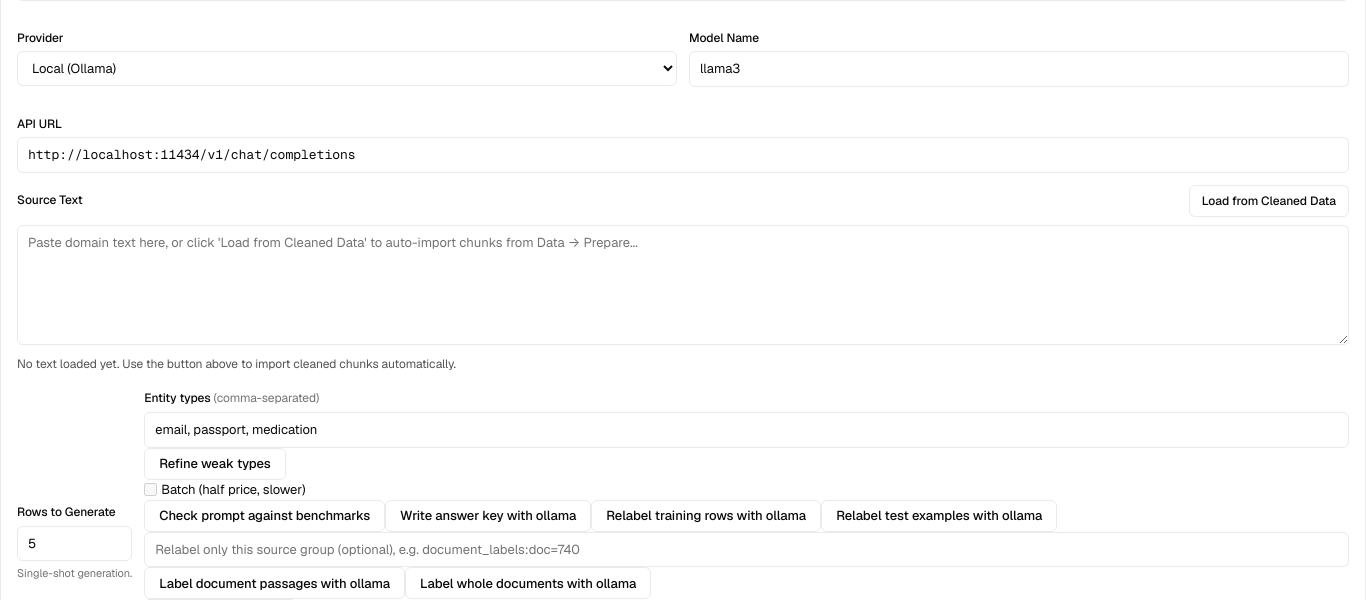
Scenario: SyntheticPanel — QA + Conversation parity (USER-SUCCESS Epic 2c) › "Refine weak types" reads the last span evaluation and generates rows for the weak types from all passages
This screenshot has width=1366, height=600.
Click the button with test id "synthetic-refine-weak-types": [215, 464] box [144,448,286,480]
(page scrolled)
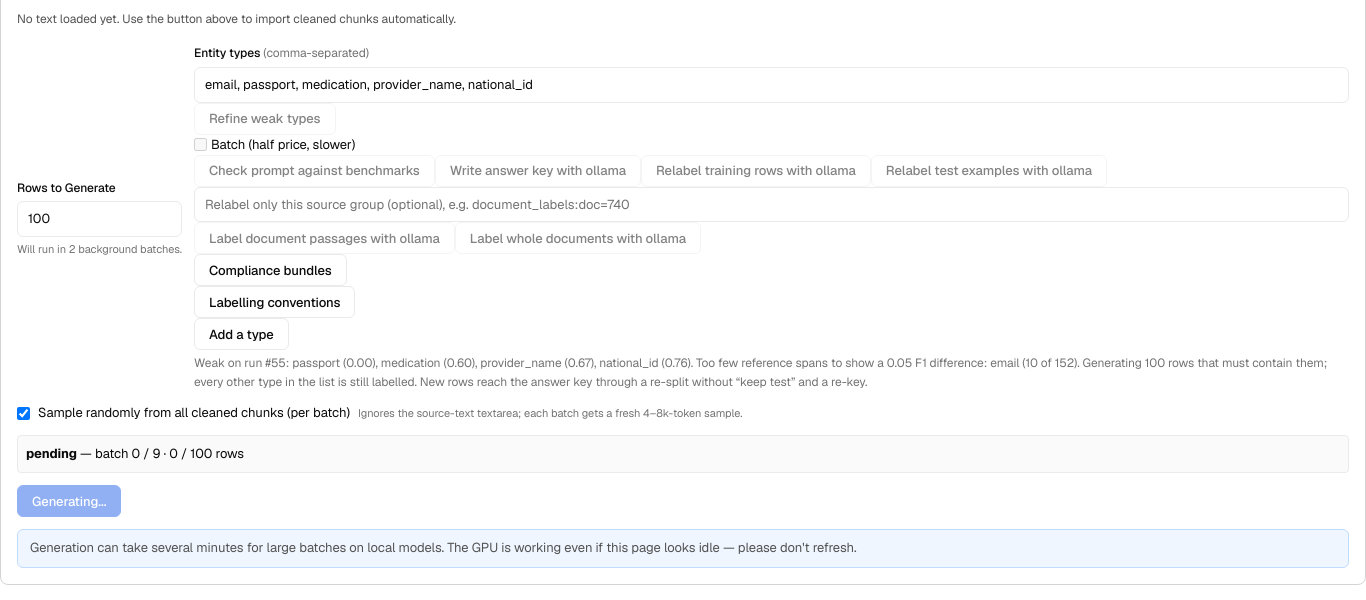
Expected: the text with test id "synthetic-refine-info" shows "Weak on run #55: passport (0.00), medication (0.60), provider_name (0.67), national_id (0.76). Too few reference spans to show a 0.05 F1 difference: email (10 o", [194,354,1349,391]
